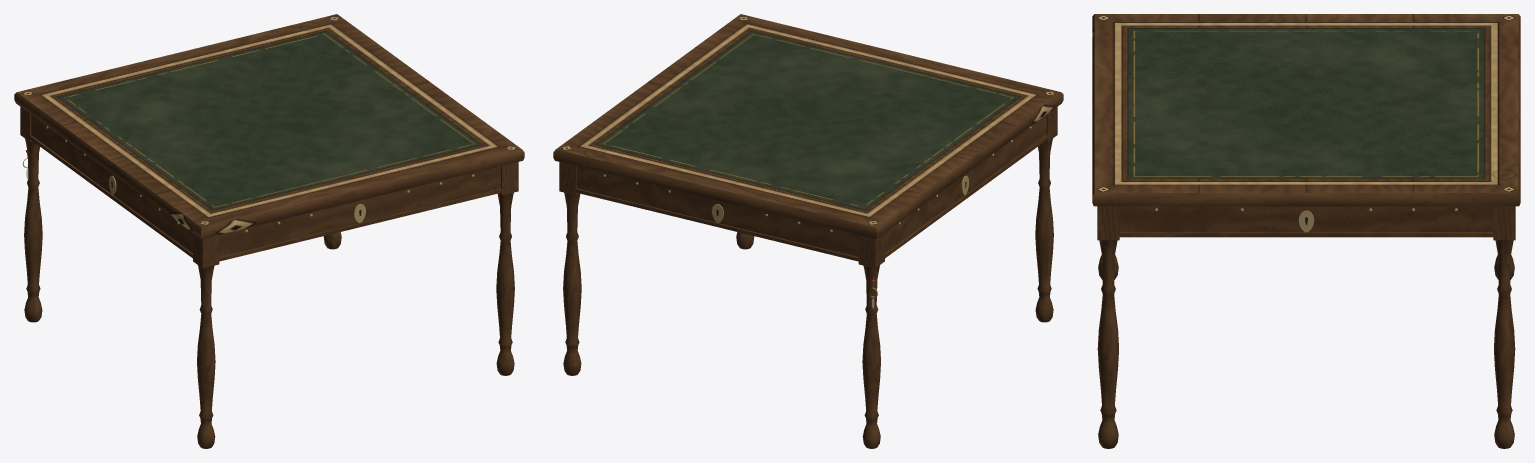
Rendered from manor_table-CS_qzC1L.glb.
3 views of the same model, side by side, from view 1: azimuth 30°, elevation 25°; view 2: azimuth 150°, elevation 25°; view 3: azimuth 270°, elevation 25° (orthographic). The views are drawn at different scales.
Visible parts, largest first — view 1: ManorTable; view 2: ManorTable; view 3: ManorTable.
Boxes of the visible parts, x1,y1,x2,y2 form: ManorTable: [14, 14, 524, 448]; ManorTable: [553, 14, 1063, 448]; ManorTable: [1092, 14, 1520, 448].
Size of the model in its own units: 1.2 by 0.8 by 1.2.
Materials: 7 (2 with a texture image).
